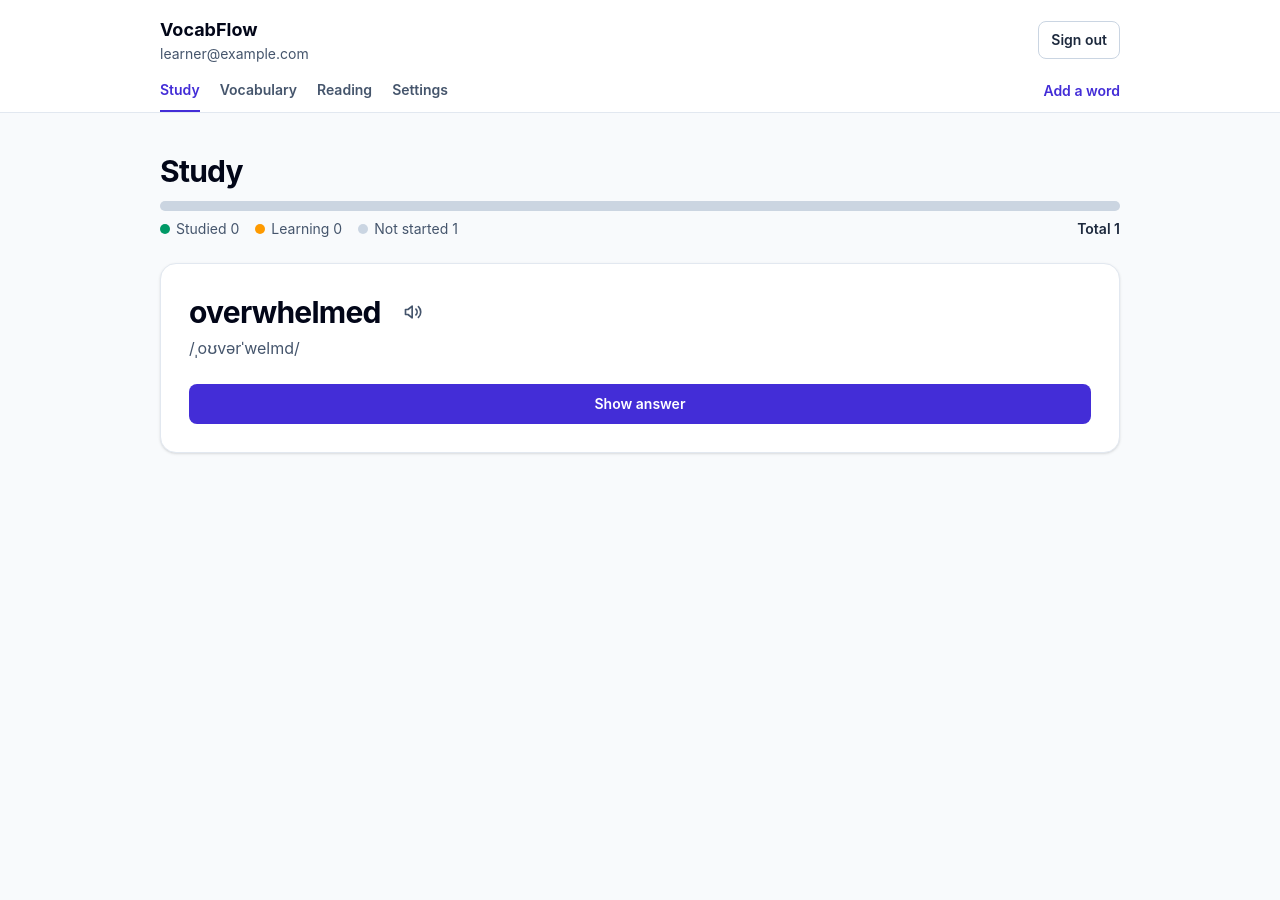
Test: tapping a word on the answer offers to add it and leaves the card as it was
Click the button "Show answer": click(640, 404) top-left (189, 384), bottom-right (1091, 424)
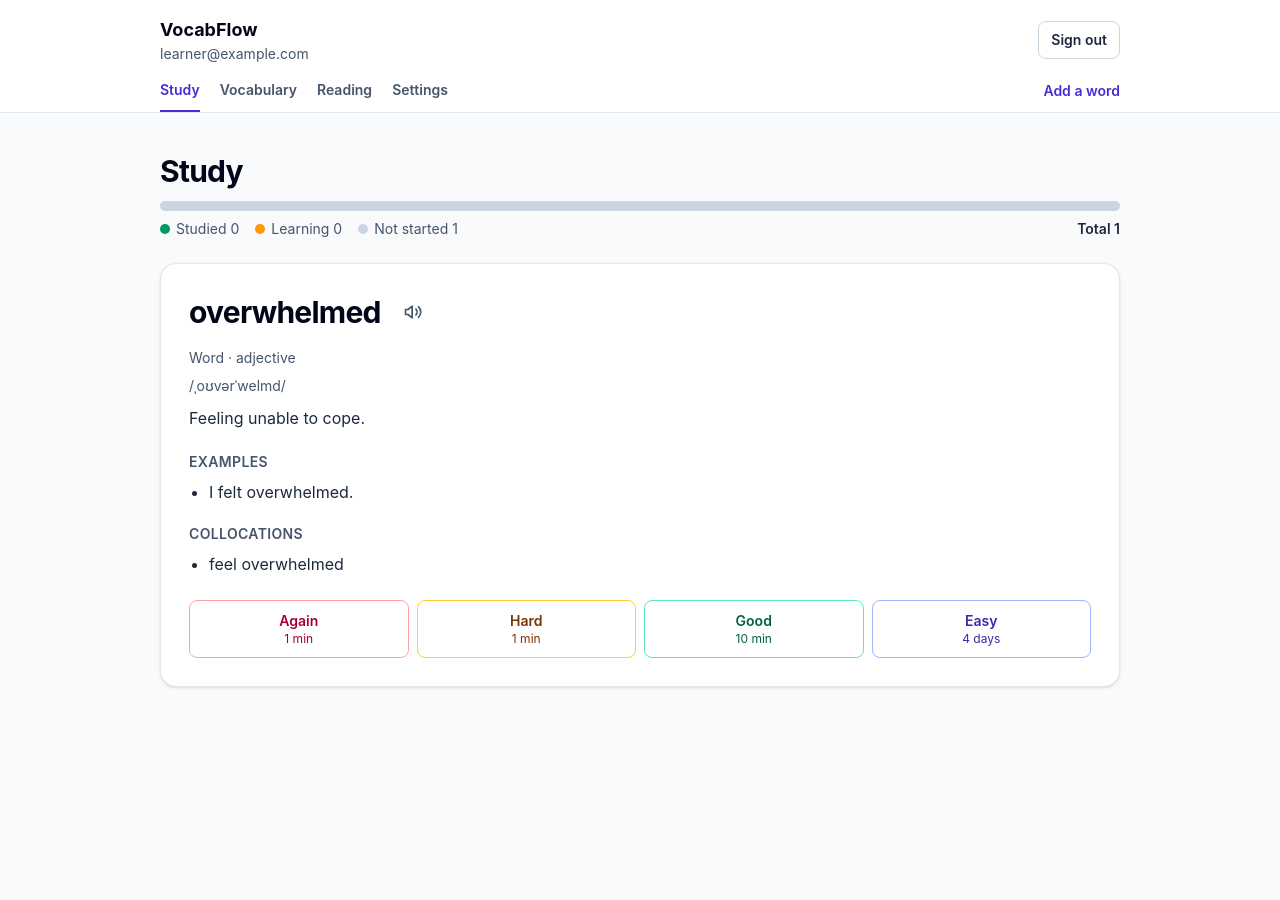
Click the text "cope": click(342, 418) top-left (323, 408), bottom-right (360, 428)
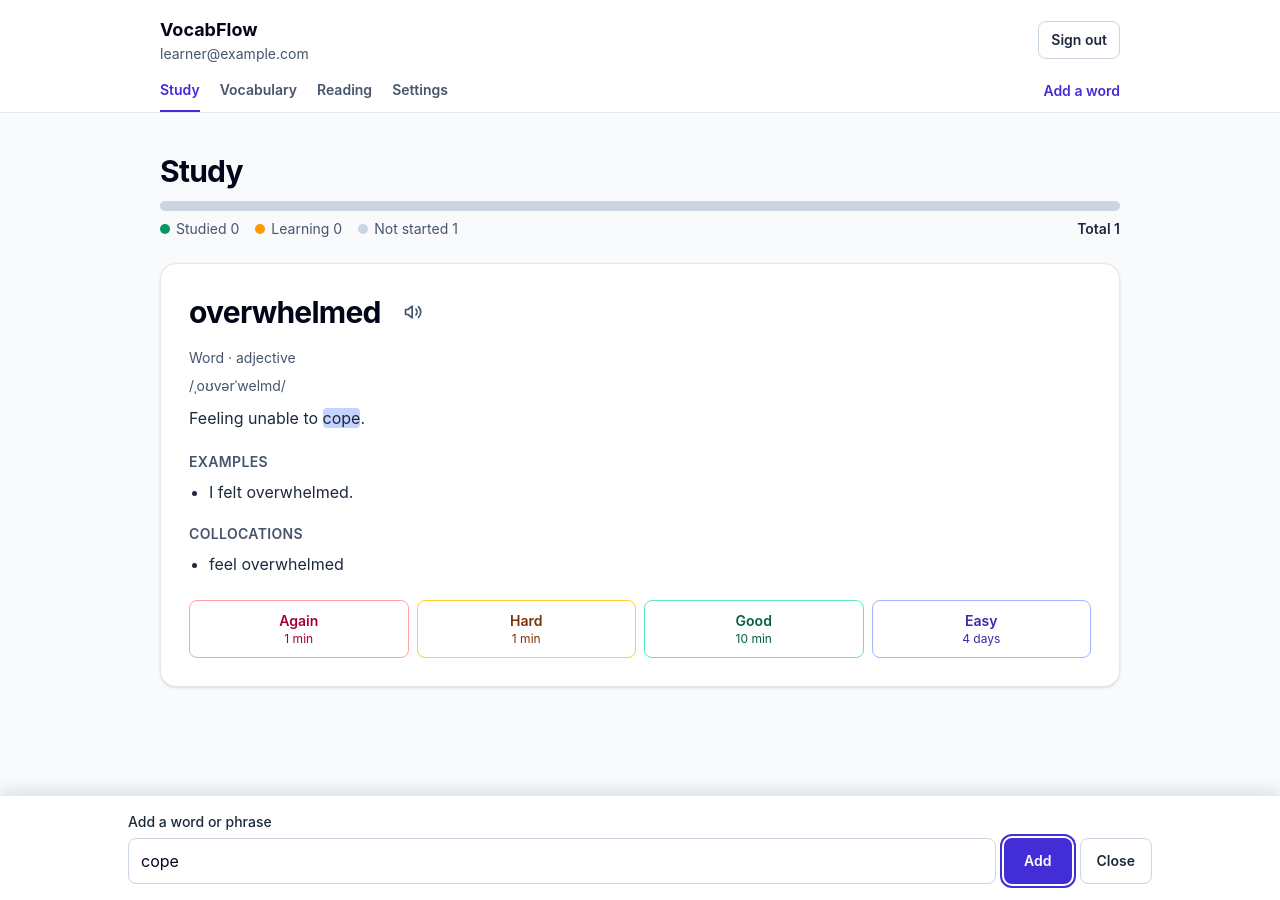
Check: the element named "remember" is shown, box top-left (189, 600), bottom-right (1091, 658)
Check: the field labelled "Add a word or phrase" holds "cope", box top-left (128, 838), bottom-right (996, 884)
Click the button "Close": click(1116, 861) top-left (1080, 838), bottom-right (1152, 884)
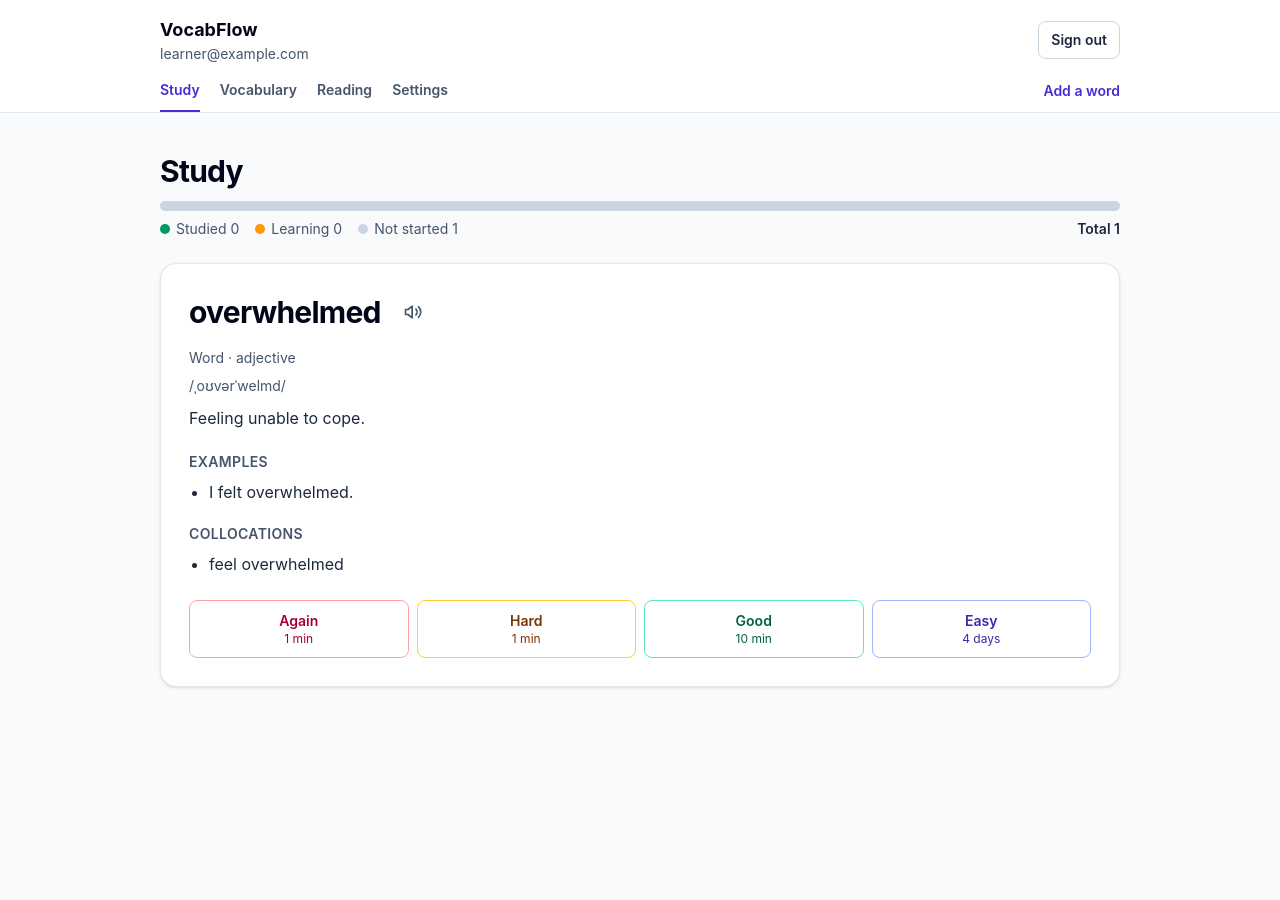
Check: the heading "overwhelmed" is shown, box top-left (189, 294), bottom-right (381, 330)
Check: the dialog is gone
